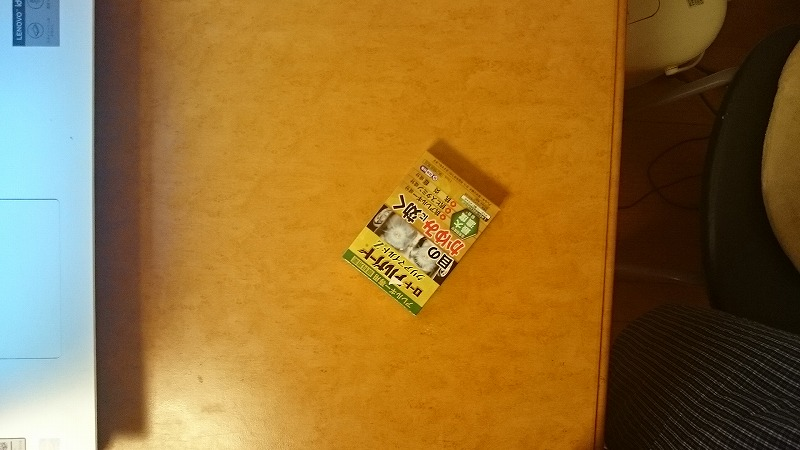C: (332, 139, 502, 323)
